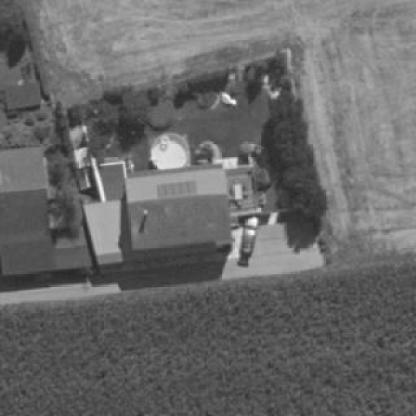solar-pv-panel: (157, 179, 197, 197)
